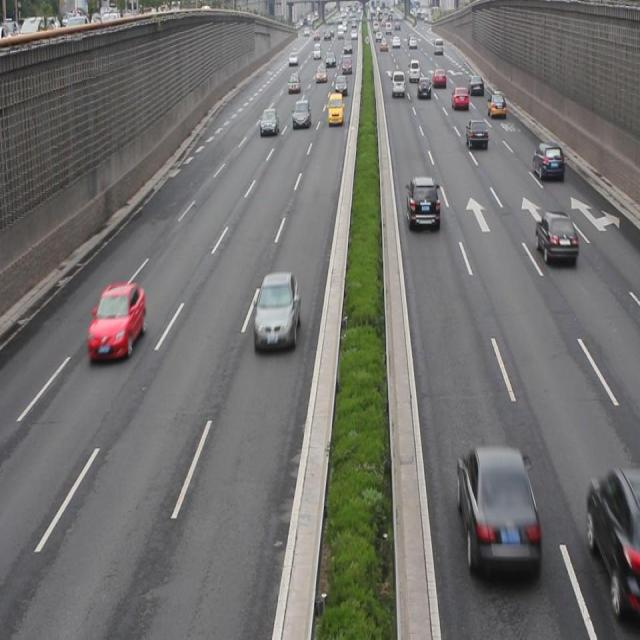car: (456, 440, 542, 578), (585, 469, 640, 612), (86, 281, 146, 361), (253, 268, 299, 352), (533, 209, 577, 269), (405, 174, 440, 234), (530, 140, 563, 184), (465, 117, 488, 153), (259, 106, 278, 138), (292, 100, 310, 128)
